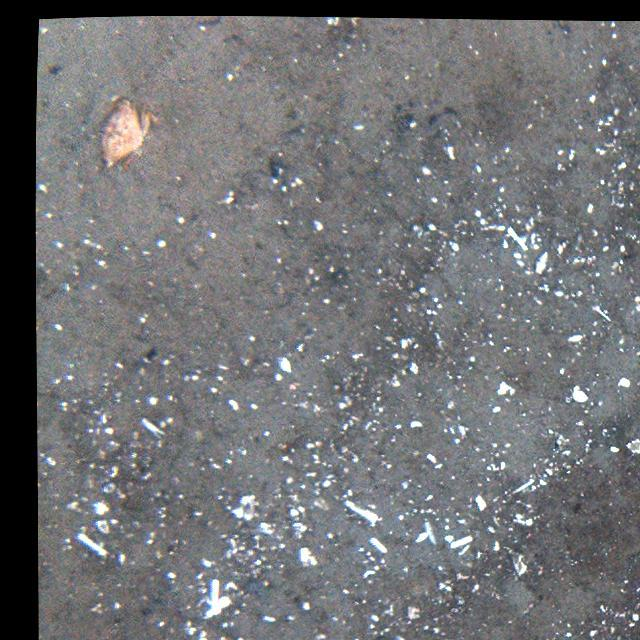crab: (99, 100, 160, 174)
